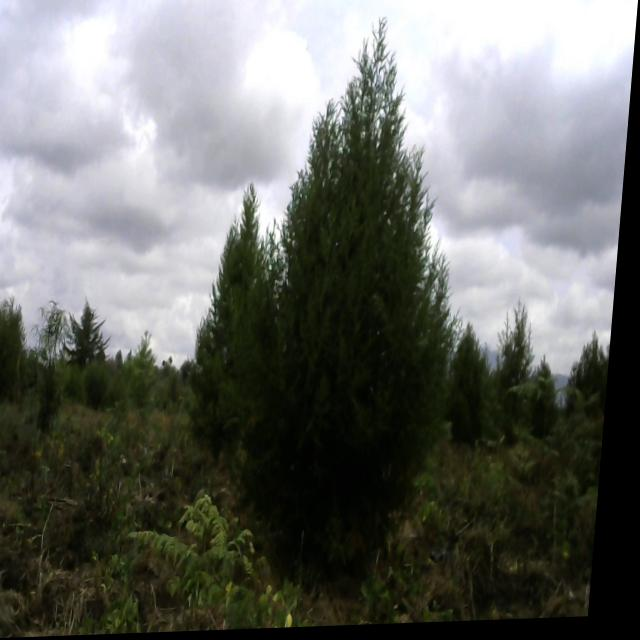cedrus: (226, 21, 480, 618), (185, 179, 302, 479), (495, 312, 549, 474), (447, 326, 502, 482), (63, 291, 118, 395), (0, 290, 35, 399)
